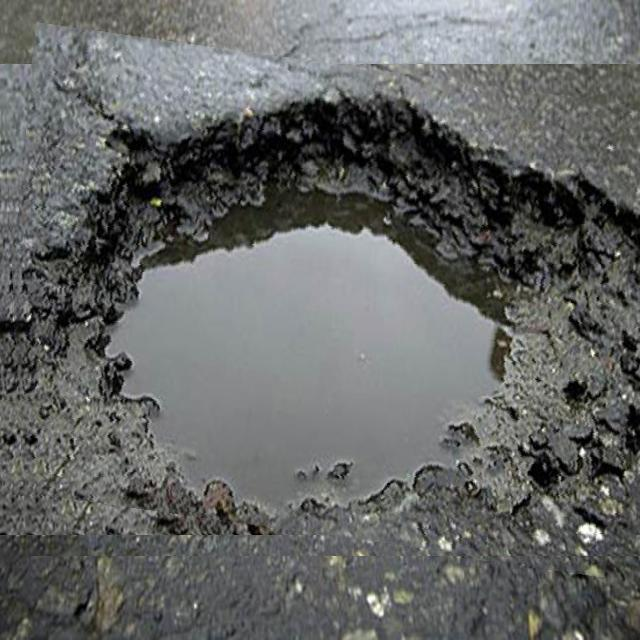Pothole: (0, 42, 640, 556)
